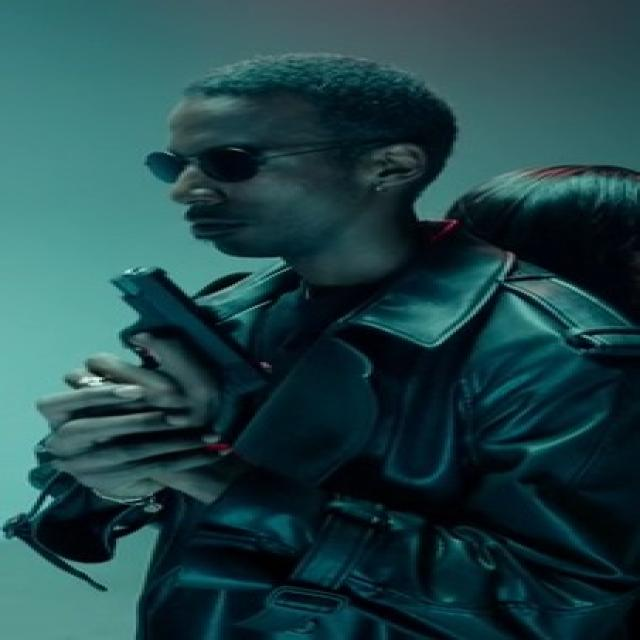Gun_Holder: (51, 256, 301, 426)
Jacket_Wearer: (0, 240, 640, 640)
Person: (0, 54, 640, 640)
